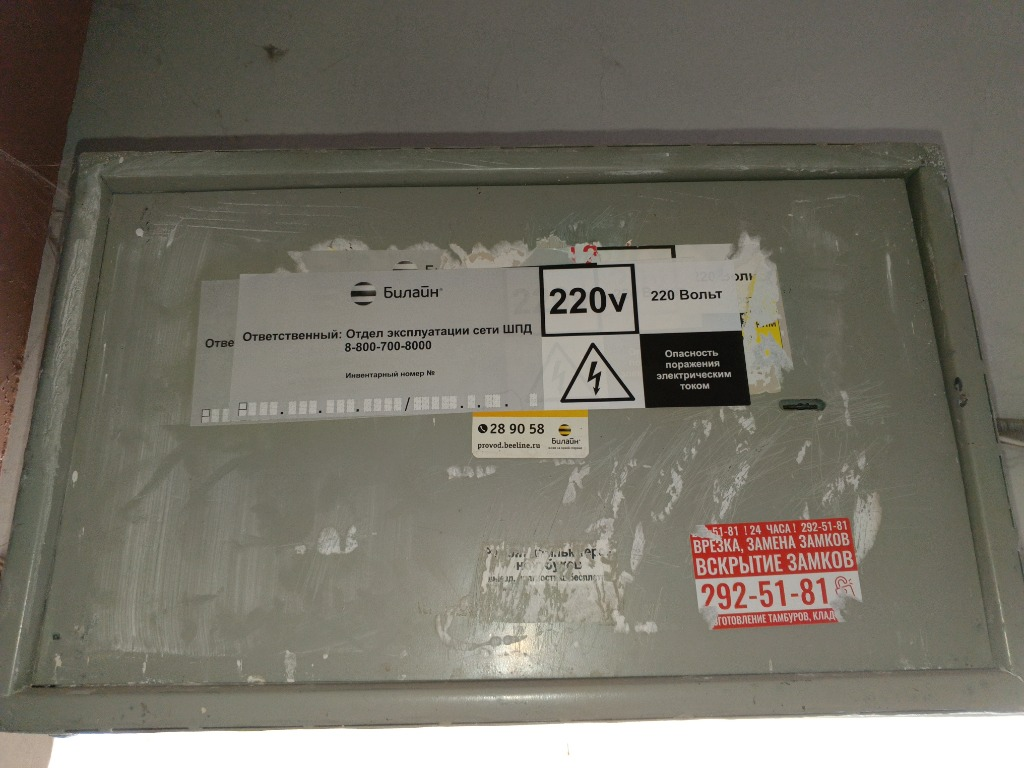e2-6u: (0, 138, 1018, 733)
